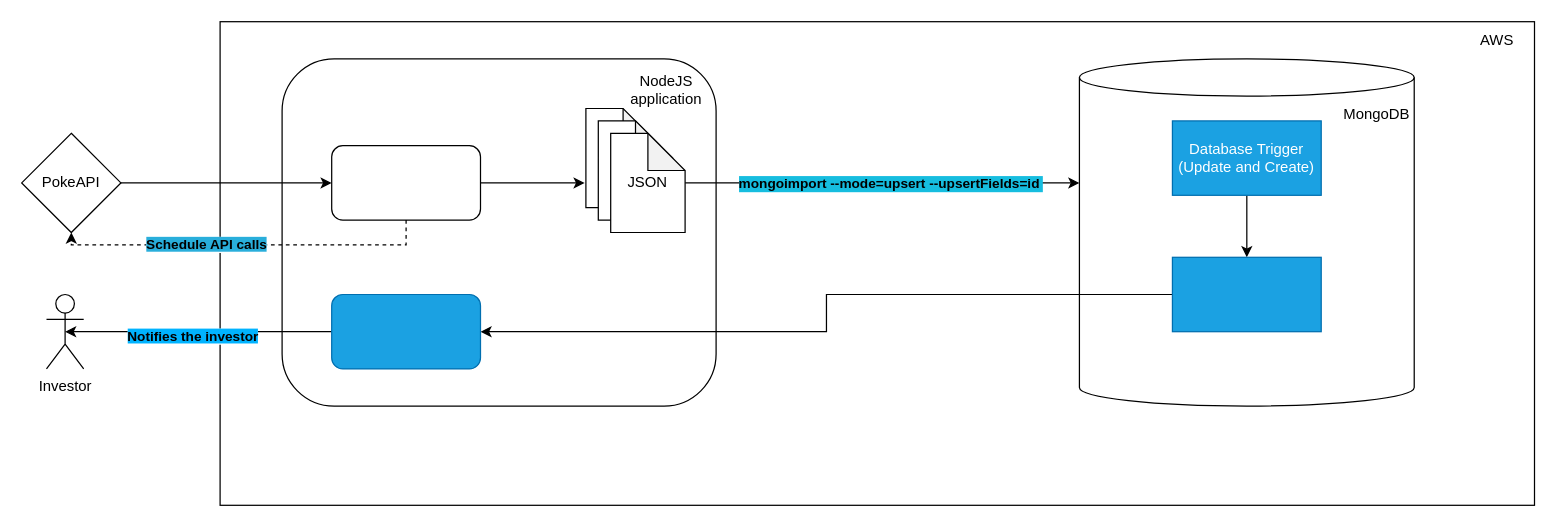
This 1556x527 diagram has some shape labels left out. Here are the shapes that lost their labels. From the top down, the centre of each, then its label:
At [405,182]: "Endpoint 1".
At [1246,294]: "Async function to call Endpoint 3".
At [405,331]: "Endpoint 3".
